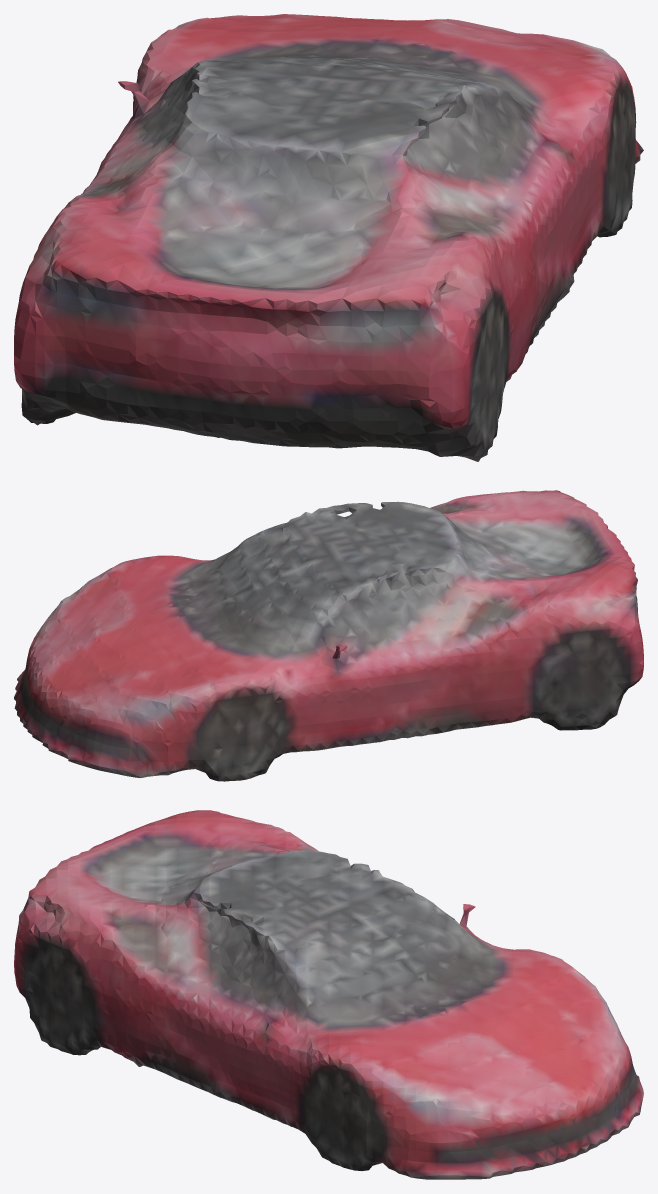
Rendered from model_raw.glb.
3 views of the same model, one above another, from view 1: azimuth 30°, elevation 25°; view 2: azimuth 150°, elevation 25°; view 3: azimuth 270°, elevation 25° (orthographic). The views are drawn at different scales.
Parts seen in each view (by area): view 1: geometry_0; view 2: geometry_0; view 3: geometry_0.
Boxes of the visible parts, x1=… form: geometry_0: x1=14, y1=14, x2=643, y2=461; geometry_0: x1=14, y1=490, x2=643, y2=781; geometry_0: x1=14, y1=810, x2=643, y2=1179.
Bounding box in the file's own units: 1.87 × 0.5503 × 1.9.
